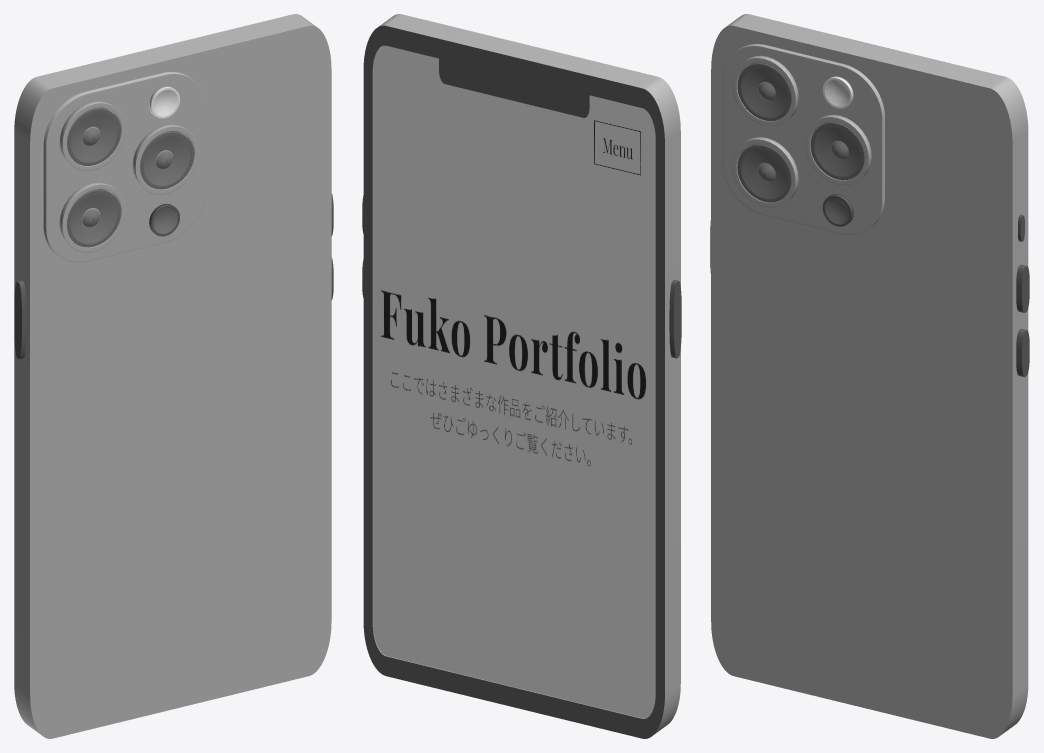
The model's file is fuko-sp.glb.
3 renders of one model, left to right at view 1: azimuth 30°, elevation 25°; view 2: azimuth 150°, elevation 25°; view 3: azimuth 330°, elevation 25°, orthographic.
Parts seen in each view (by area): view 1: Cube.001, Cube, Cylinder.002, Cylinder.011, Cylinder.009, Cylinder.001, Cylinder.008, Cylinder.012, Cylinder.007, Cylinder.010, Cylinder, Cube.006 (+2 smaller); view 2: Cube.001, Cube.006; view 3: Cube.001, Cube, Cylinder.009, Cylinder.002, Cylinder.011, Cylinder.001, Cylinder.008, Cylinder.012, Cylinder.007, Cylinder.010, Cylinder, Cylinder.003 (+3 smaller).
Part boxes in pixels (bbox=[...]): Cube.001: bbox=[14, 14, 331, 738]; Cube: bbox=[43, 72, 206, 262]; Cylinder.002: bbox=[67, 107, 120, 165]; Cylinder.011: bbox=[140, 131, 193, 189]; Cylinder.009: bbox=[67, 189, 120, 247]; Cylinder.001: bbox=[71, 108, 120, 162]; Cylinder.008: bbox=[71, 189, 120, 243]; Cylinder.012: bbox=[144, 132, 193, 185]; Cylinder.007: bbox=[59, 182, 125, 252]; Cylinder.010: bbox=[132, 124, 198, 194]; Cylinder: bbox=[59, 100, 125, 170]; Cube.006: bbox=[14, 280, 26, 359]; Cube.001: bbox=[363, 14, 680, 738]; Cube.006: bbox=[669, 280, 681, 358]; Cube.001: bbox=[711, 14, 1028, 738]; Cube: bbox=[722, 44, 884, 234]; Cylinder.009: bbox=[737, 144, 791, 202]; Cylinder.002: bbox=[737, 62, 791, 121]; Cylinder.011: bbox=[810, 121, 864, 180]; Cylinder.001: bbox=[737, 63, 787, 117]; Cylinder.008: bbox=[737, 144, 787, 198]; Cylinder.012: bbox=[811, 122, 860, 176]; Cylinder.007: bbox=[732, 137, 798, 207]; Cylinder.010: bbox=[805, 114, 871, 185]; Cylinder: bbox=[732, 55, 798, 126]; Cylinder.003: bbox=[822, 76, 853, 108].
Bounding box in the file's own units: 2.34 × 4.66 × 0.2792.
5 materials, 1 textured.
